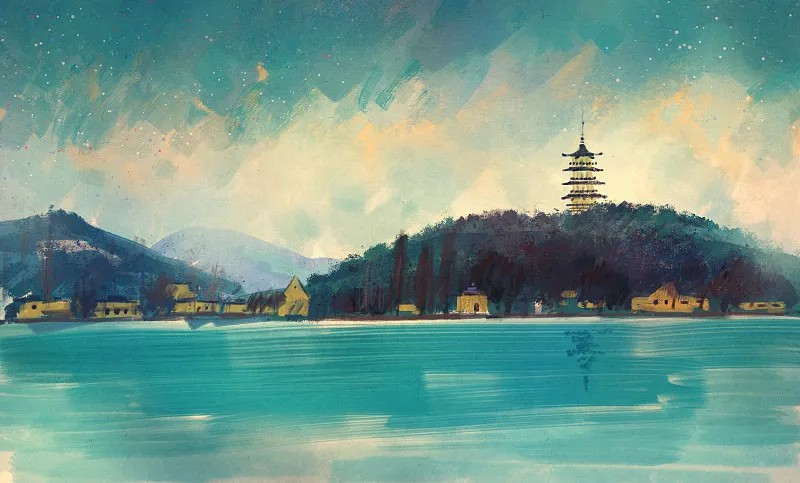Leifeng: (559, 111, 607, 212)
